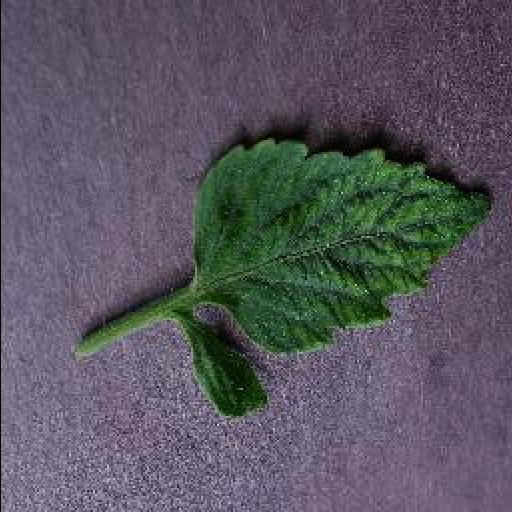Mosaic Virus: (185, 137, 495, 355)
